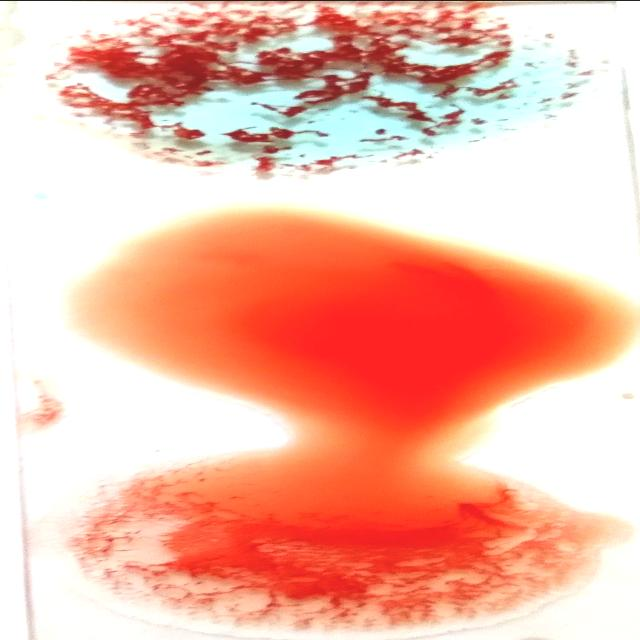A: (47, 2, 585, 165)
D: (66, 517, 572, 629)
